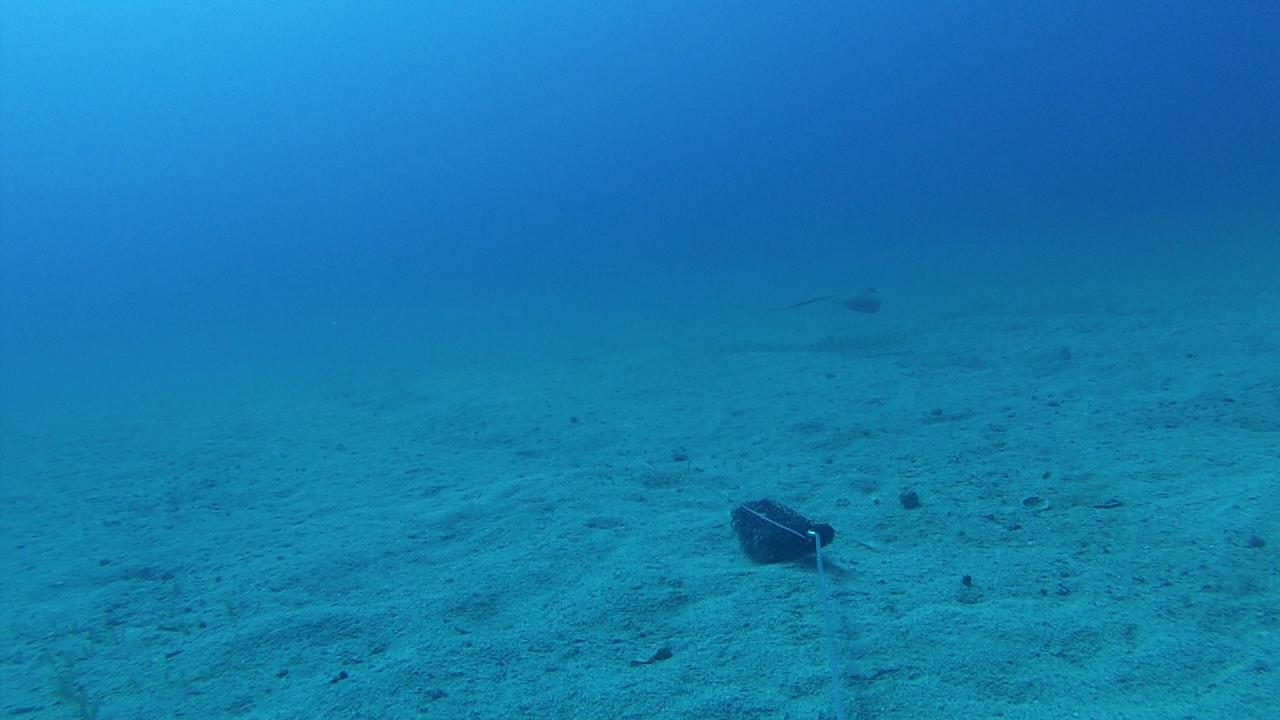dasyatis: (784, 286, 881, 314)
